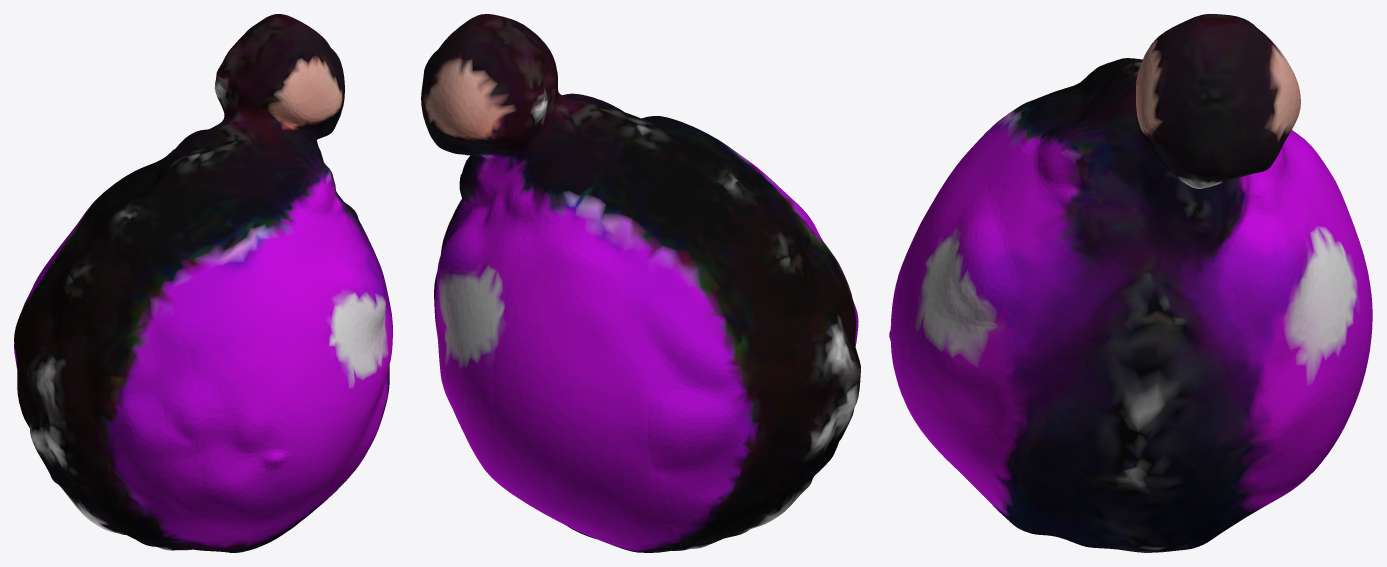
Rendered from potionmag.glb.
3 renders of one model, left to right at view 1: azimuth 30°, elevation 25°; view 2: azimuth 150°, elevation 25°; view 3: azimuth 270°, elevation 25°, orthographic. The views are drawn at different scales.
Visible parts, largest first — view 1: geometry_0; view 2: geometry_0; view 3: geometry_0.
Part boxes in pixels (box(x1,y1,x2,y2)): geometry_0: box(14, 14, 392, 552); geometry_0: box(421, 14, 860, 552); geometry_0: box(889, 14, 1372, 552).
Bounding box in the file's own units: 0.375 × 0.4971 × 0.3662.
